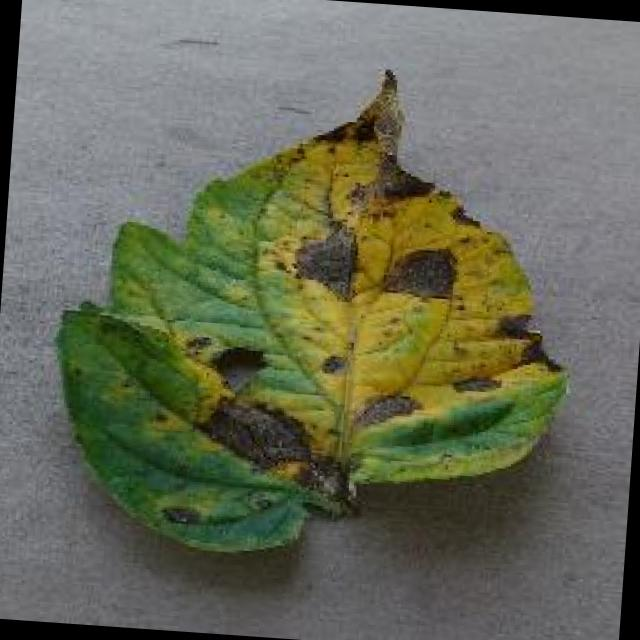Tomato_Early_Blight: (46, 35, 590, 562)
